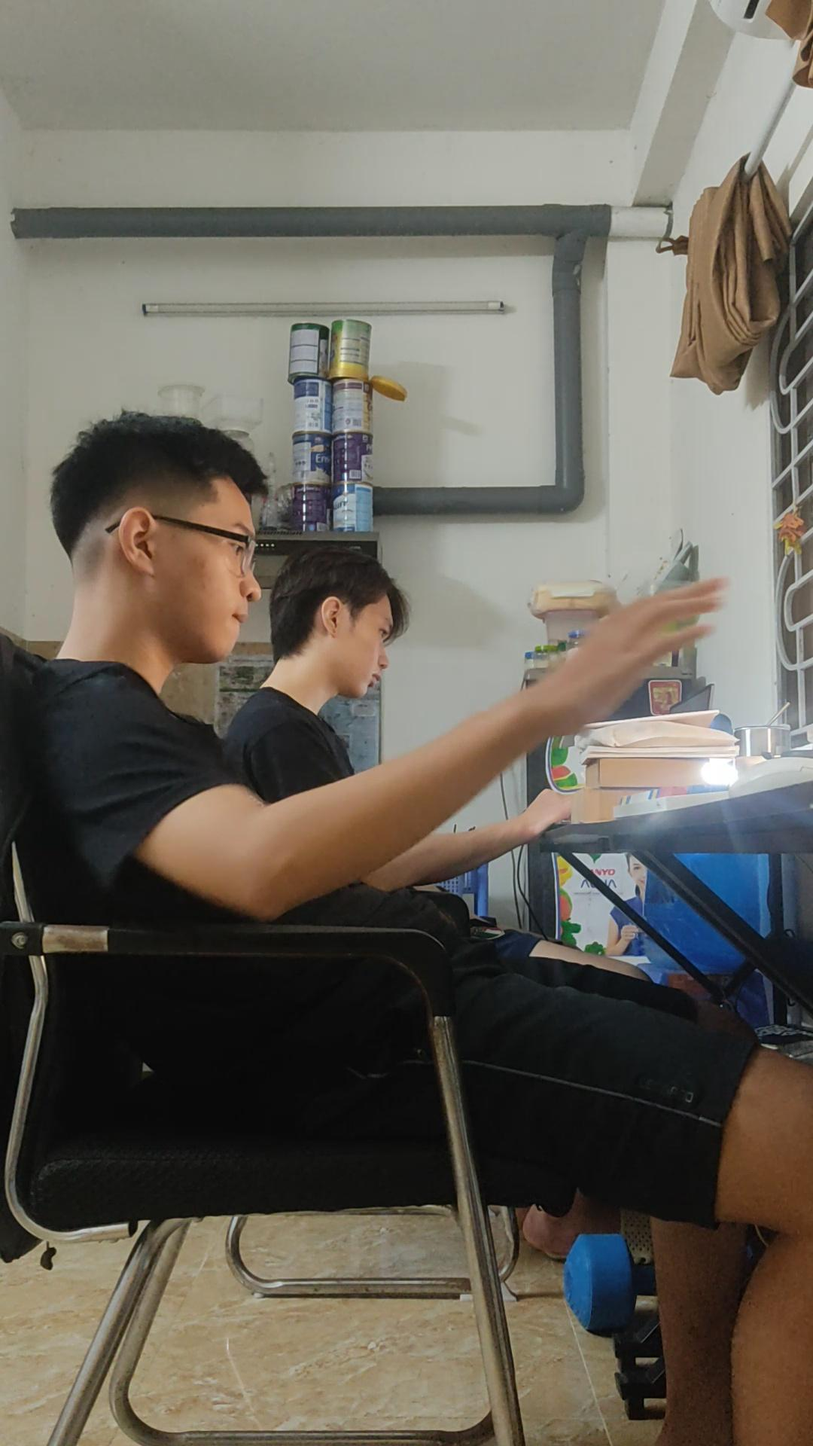BadPosture: (0, 415, 812, 1433)
